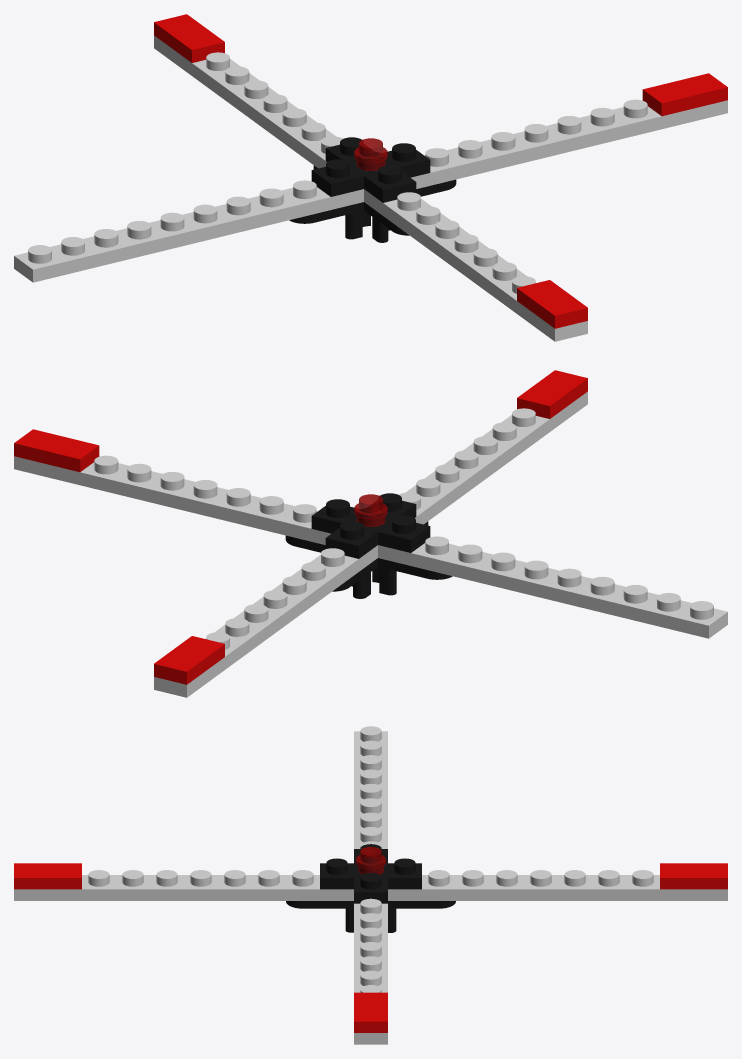
File: Helices.obj
3 renders of one model, top to bottom at view 1: azimuth 30°, elevation 25°; view 2: azimuth 150°, elevation 25°; view 3: azimuth 270°, elevation 25°, orthographic. The views are drawn at different scales.
Visible parts, largest first — view 1: Mesh229, Mesh230, Mesh228, Mesh227, Mesh231, Mesh237, Mesh226, Mesh235, Mesh236, Mesh233, Mesh234, Mesh232; view 2: Mesh229, Mesh230, Mesh227, Mesh228, Mesh231, Mesh237, Mesh226, Mesh236, Mesh235, Mesh232, Mesh234, Mesh233; view 3: Mesh227, Mesh228, Mesh229, Mesh230, Mesh235, Mesh236, Mesh231, Mesh226, Mesh237, Mesh232, Mesh233, Mesh234.
Part boxes in pixels (bbox=[...]): Mesh229: bbox=[14, 180, 363, 282]; Mesh230: bbox=[411, 99, 727, 188]; Mesh228: bbox=[364, 189, 587, 341]; Mesh227: bbox=[154, 35, 342, 168]; Mesh231: bbox=[311, 143, 430, 196]; Mesh237: bbox=[642, 73, 727, 116]; Mesh226: bbox=[289, 165, 456, 242]; Mesh235: bbox=[517, 280, 587, 328]; Mesh236: bbox=[154, 14, 224, 62]; Mesh233: bbox=[364, 165, 416, 202]; Mesh234: bbox=[354, 138, 387, 170]; Mesh232: bbox=[325, 137, 361, 161]; Mesh229: bbox=[378, 536, 727, 638]; Mesh230: bbox=[14, 455, 330, 544]; Mesh227: bbox=[154, 545, 377, 697]; Mesh228: bbox=[399, 391, 587, 524]; Mesh231: bbox=[311, 499, 430, 552]; Mesh237: bbox=[14, 429, 99, 472]; Mesh226: bbox=[285, 521, 452, 598]; Mesh236: bbox=[154, 636, 224, 684]; Mesh235: bbox=[517, 370, 587, 418]; Mesh232: bbox=[325, 521, 377, 558]; Mesh234: bbox=[354, 494, 387, 526]; Mesh233: bbox=[380, 493, 416, 517]; Mesh227: bbox=[388, 870, 727, 900]; Mesh228: bbox=[14, 870, 353, 900]; Mesh229: bbox=[354, 726, 387, 848]; Mesh230: bbox=[354, 898, 387, 1044]; Mesh235: bbox=[14, 863, 81, 889]; Mesh236: bbox=[660, 863, 727, 889]; Mesh231: bbox=[354, 844, 387, 903]; Mesh226: bbox=[286, 901, 455, 932]; Mesh237: bbox=[354, 992, 387, 1032]; Mesh232: bbox=[388, 858, 421, 889]; Mesh233: bbox=[320, 858, 353, 889]; Mesh234: bbox=[356, 847, 385, 874].
Size of the model in its own units: 13.06 by 1.59 by 13.06.
